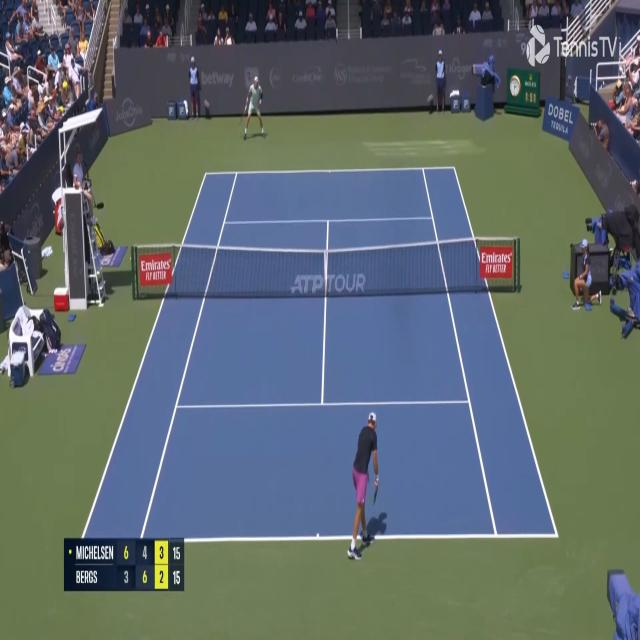tennis-player: (345, 408, 388, 566), (242, 74, 268, 142)
